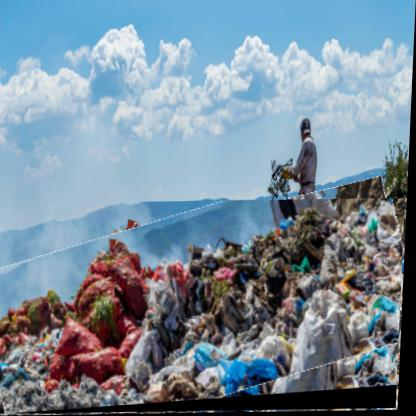Garbage: (1, 200, 409, 416)
